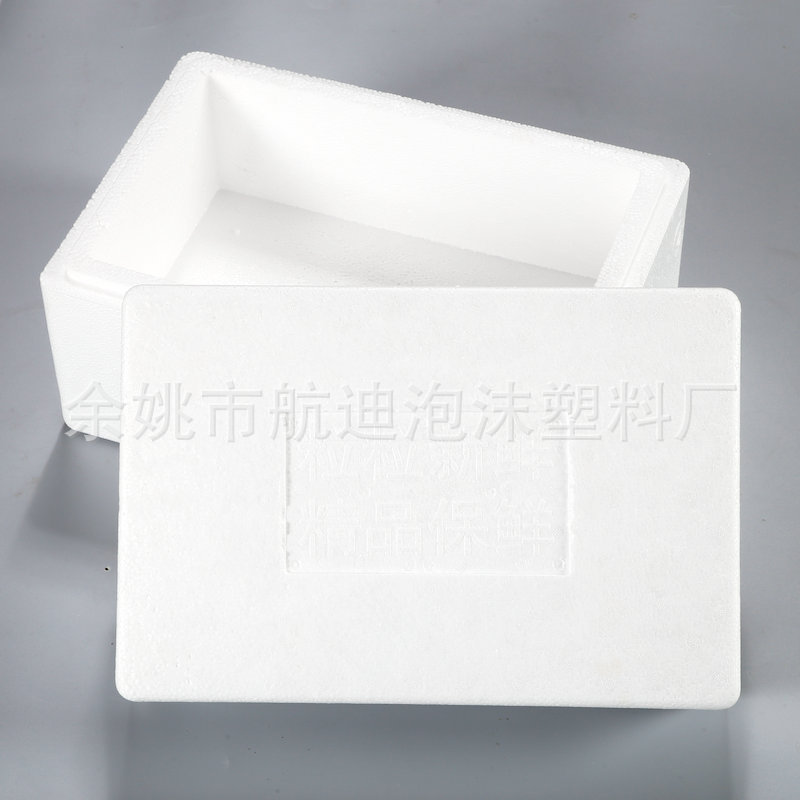Boxes: (41, 54, 739, 708)
